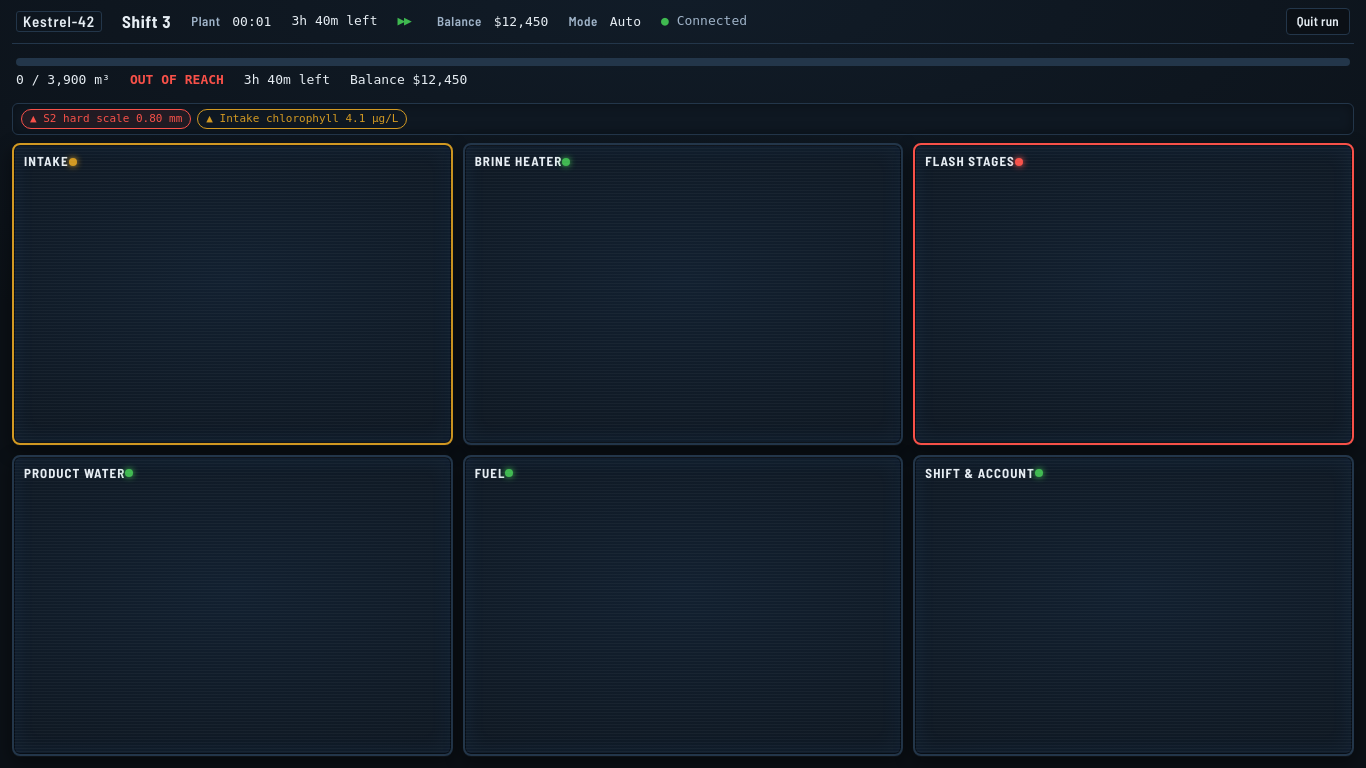
Test: ControlRoom › passes pending commands to the controls ("sending…")
Click the button "BRINE HEATER" at (519, 161), box [463,143,903,445]
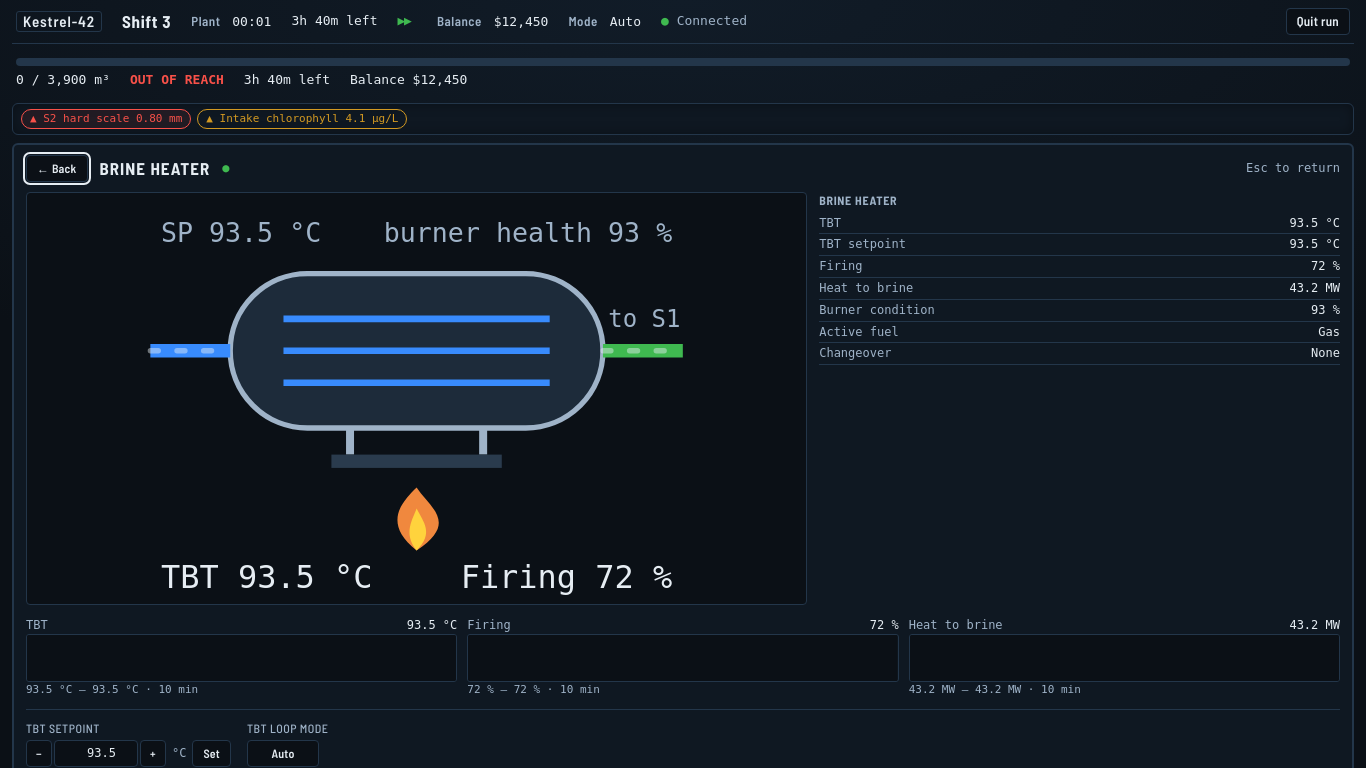
Click the button named "Increase TBT setpoint" at (153, 754), box [140,740,166,767]
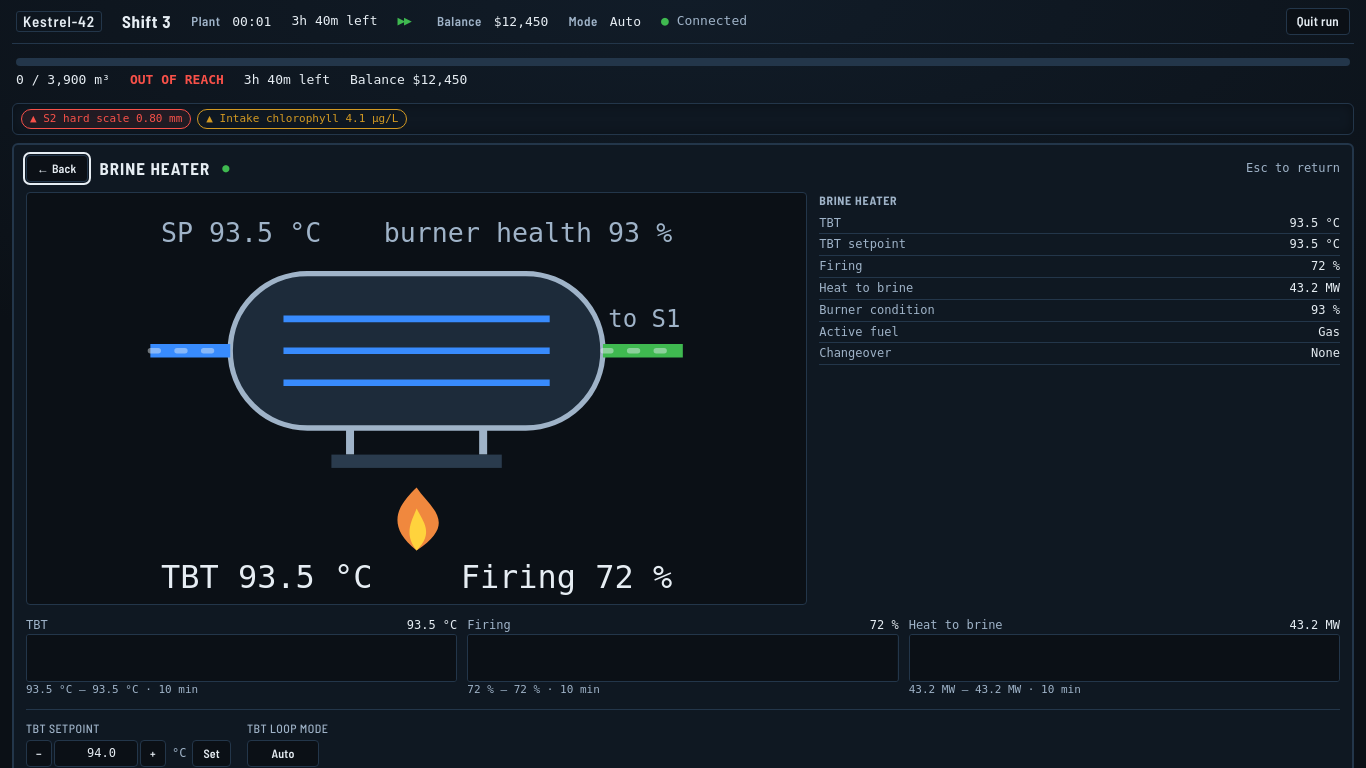
Click the button with aria-label "Set TBT setpoint" at (212, 754), box [192,740,231,767]
(page scrolled)
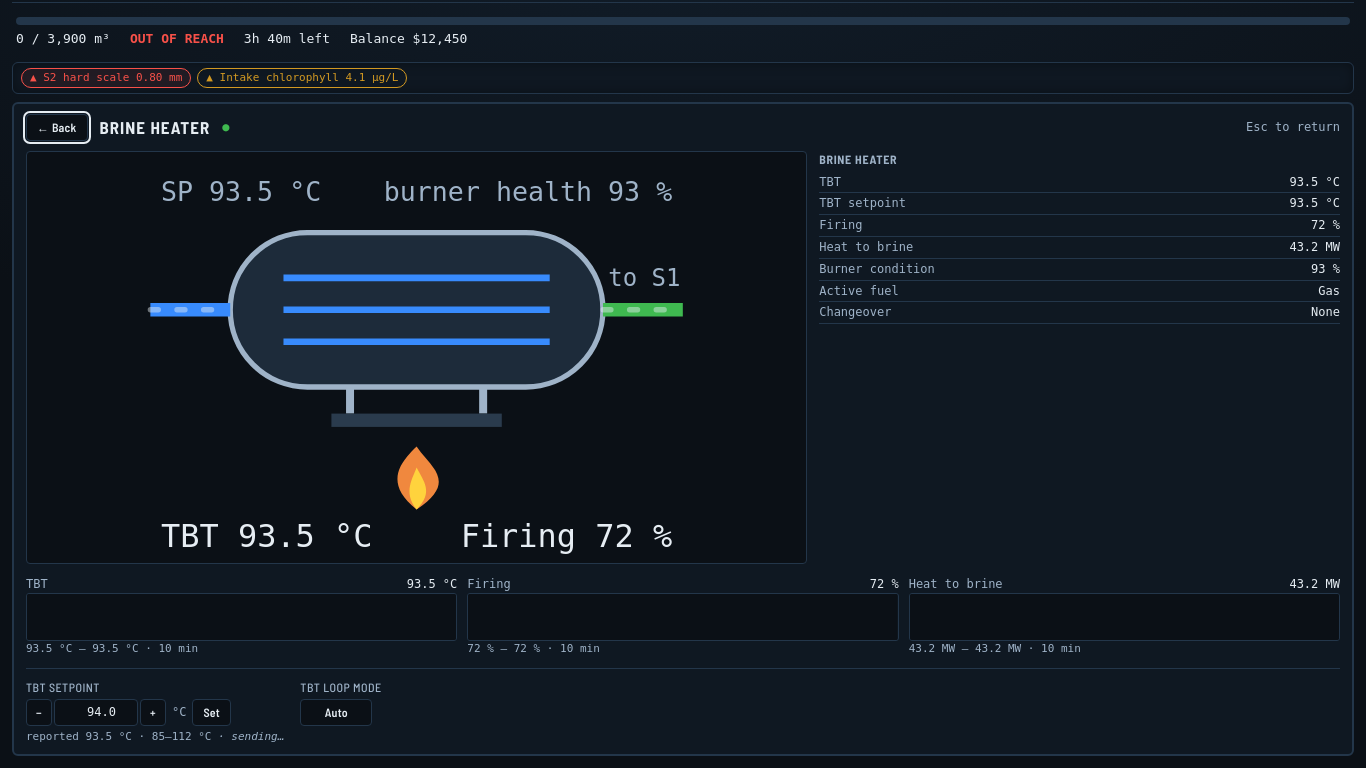
Check: the text "sending…" is shown, box [212,730,284,743]
